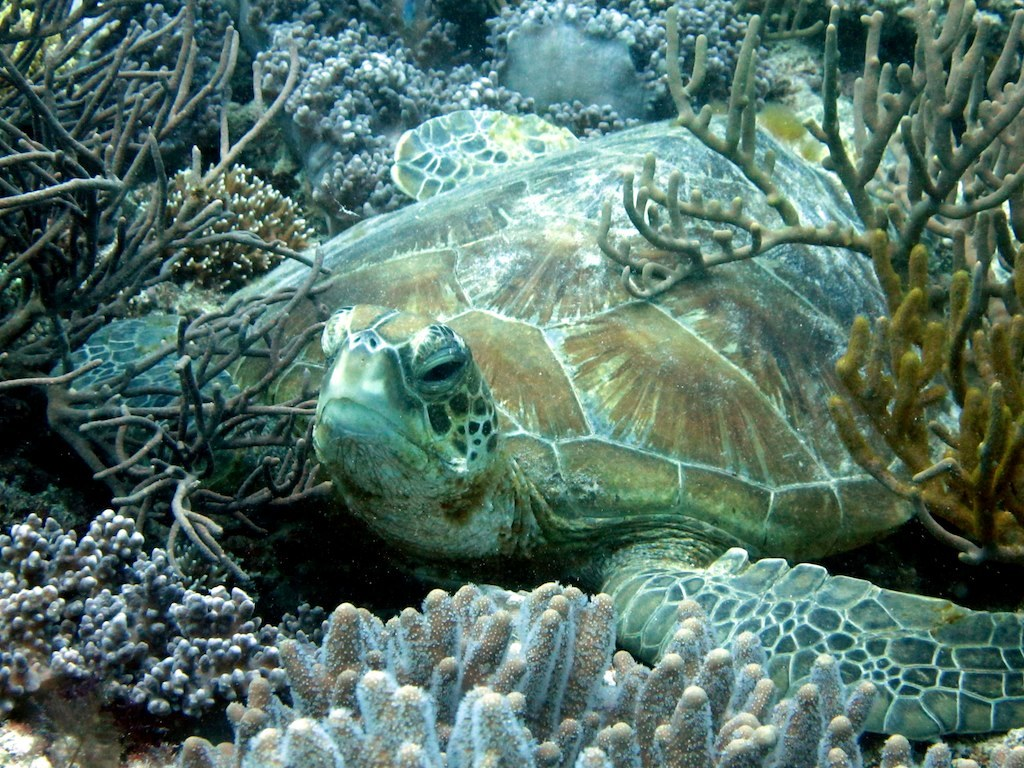Sea turtles: (46, 108, 1022, 742)
